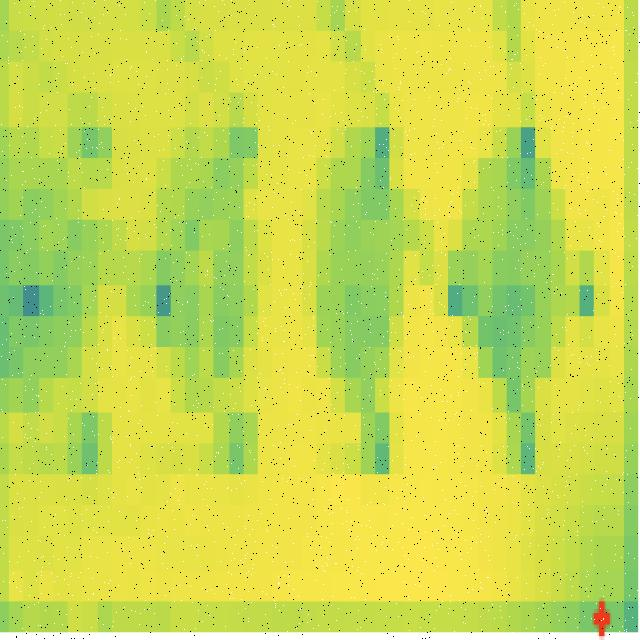Concrete: (302, 123, 430, 443)
Glass: (146, 124, 272, 416)
Metal: (456, 117, 600, 448)
Wood: (0, 146, 128, 416)
